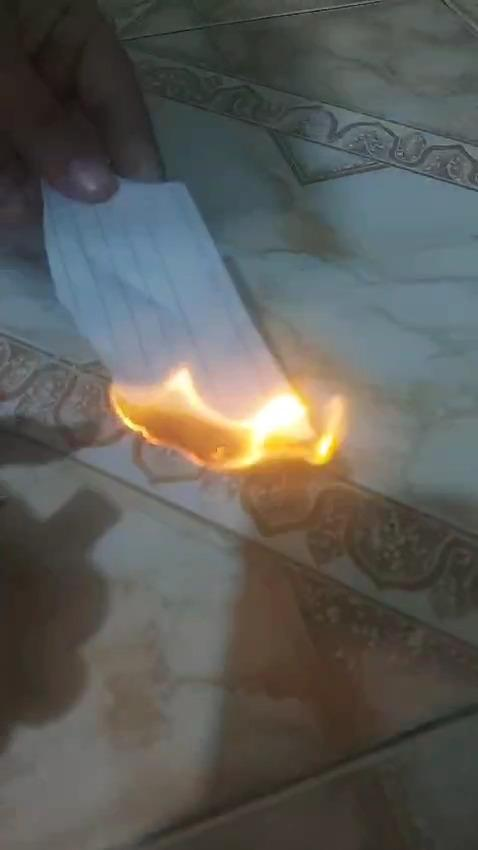Fire: (101, 341, 369, 489)
